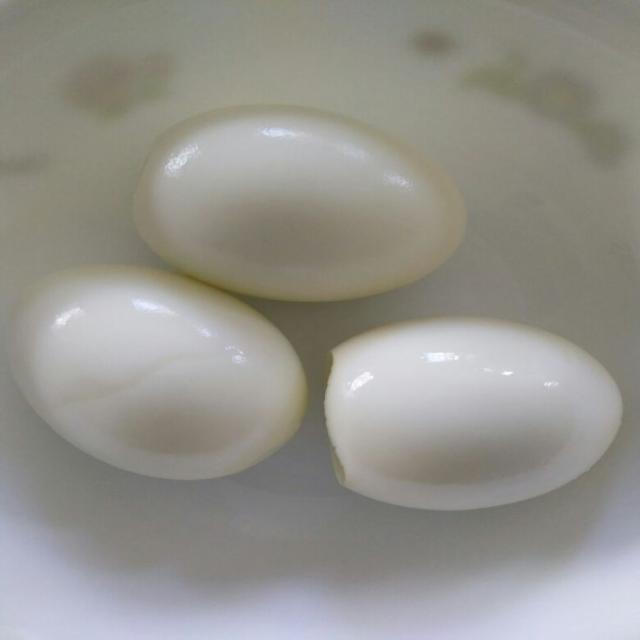egg boiled: (133, 105, 464, 301), (9, 266, 306, 480), (324, 318, 622, 510)
